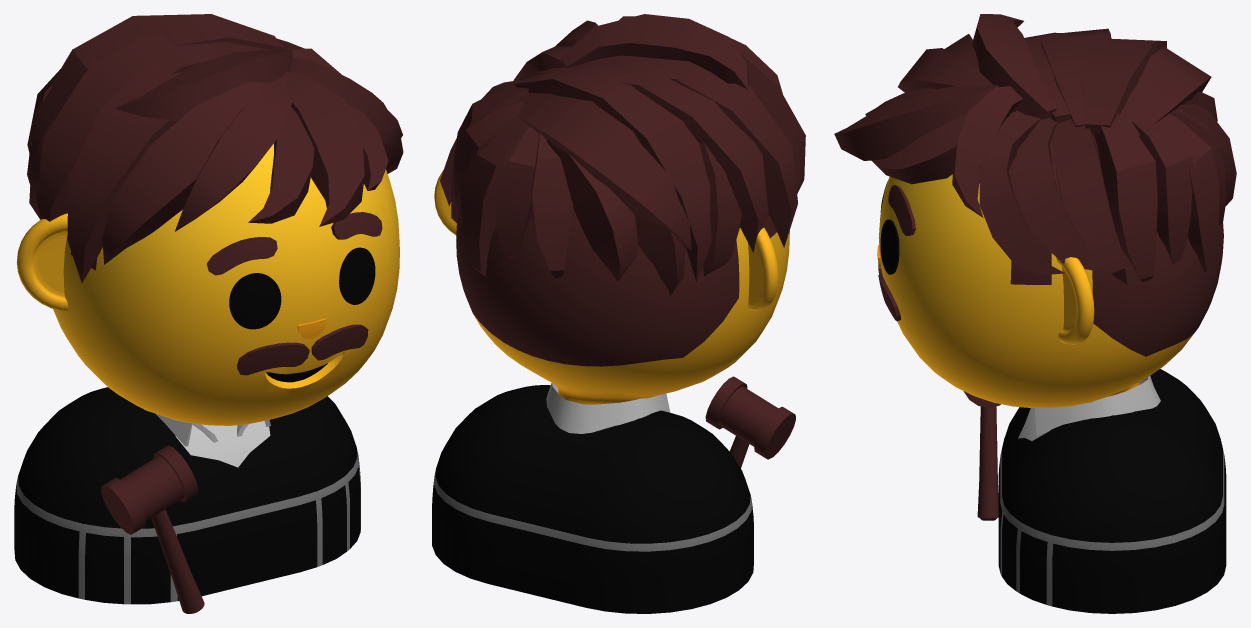
File: man_judge.fbx
The picture shows the model from 3 angles, left to right: view 1: azimuth 30°, elevation 25°; view 2: azimuth 150°, elevation 25°; view 3: azimuth 270°, elevation 25°; orthographic projection. The views are drawn at different scales.
Parts seen in each view (by area): view 1: Cube.1092, Sphere.044, Roundcube.086, Cylinder.079, Circle.580, Cylinder.078, Circle.583, Circle.582, Plane.039; view 2: Cube.1092, Sphere.044, Roundcube.086, Cylinder.079, Plane.039, Cylinder.078; view 3: Cube.1092, Sphere.044, Roundcube.086, Plane.039, Cylinder.078, Cylinder.079, Circle.580, Circle.582.
Boxes of the visible parts, x1,y1,x2,y2 form: Cube.1092: (27,14,403,282); Sphere.044: (14,387,360,604); Roundcube.086: (53,143,399,425); Cylinder.079: (101,445,204,613); Circle.580: (229,247,375,329); Cylinder.078: (16,213,68,311); Circle.583: (237,324,368,375); Circle.582: (207,212,382,275); Plane.039: (155,413,270,446); Cube.1092: (440,14,805,295); Sphere.044: (432,385,753,613); Roundcube.086: (456,208,789,404); Cylinder.079: (705,376,795,468); Plane.039: (546,383,670,433); Cylinder.078: (434,170,778,310); Cube.1092: (834,14,1236,284); Sphere.044: (998,369,1226,613); Roundcube.086: (878,112,1223,407); Plane.039: (1035,376,1160,435); Cylinder.078: (1056,257,1094,344); Cylinder.079: (963,391,1000,520); Circle.580: (880,181,899,274); Circle.582: (888,185,915,235).
Size of the model in its own units: 176 by 246 by 177.
Materials: 2 (2 with a texture image).
